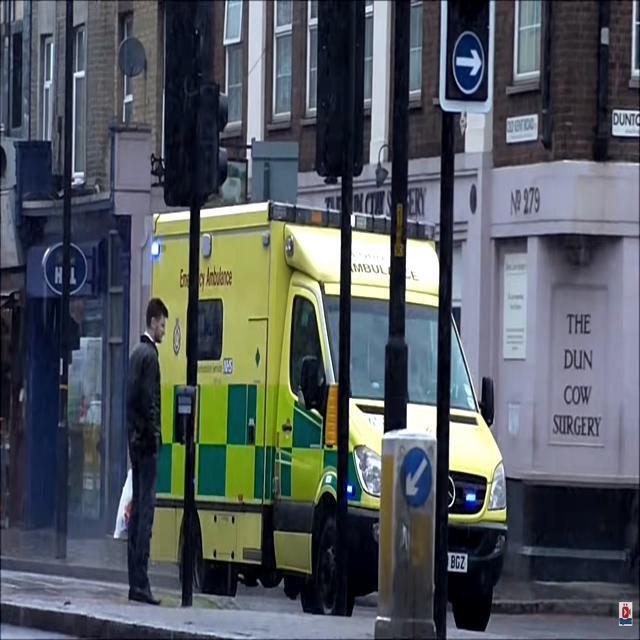emergency-vehicles: (131, 192, 515, 630)
